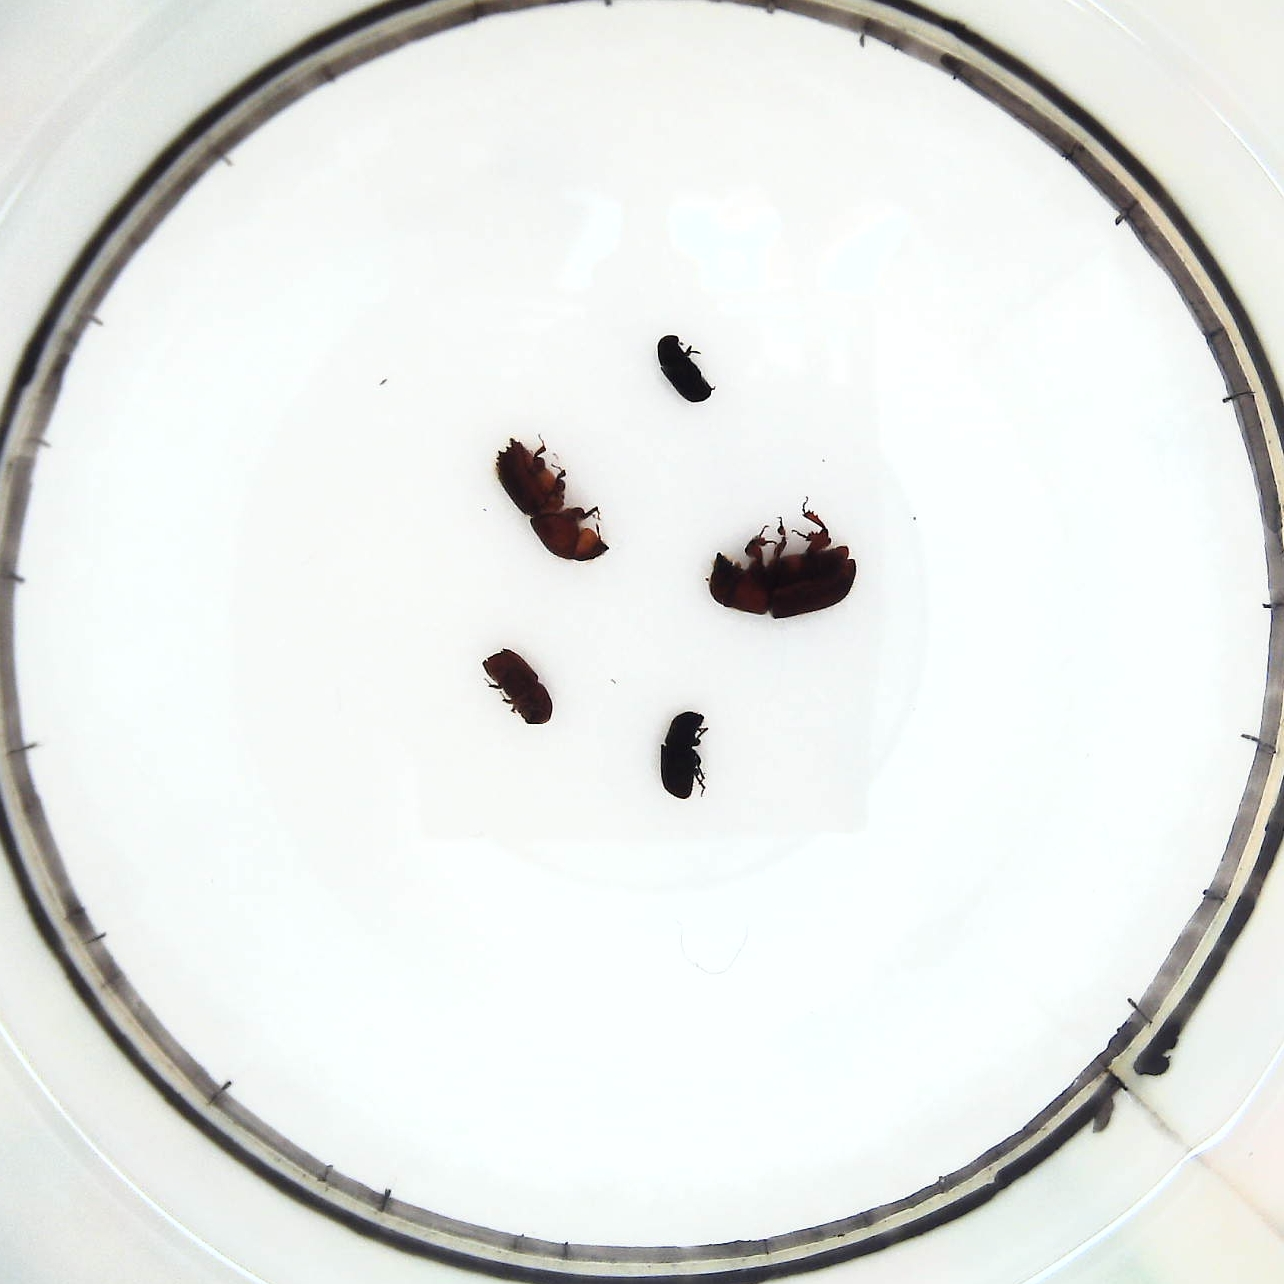Boerner: (491, 432, 610, 571)
Leconte: (700, 500, 860, 622)
armandi: (657, 705, 713, 810)
coleoptera: (653, 327, 715, 407)
linnaeus: (476, 647, 554, 729)
